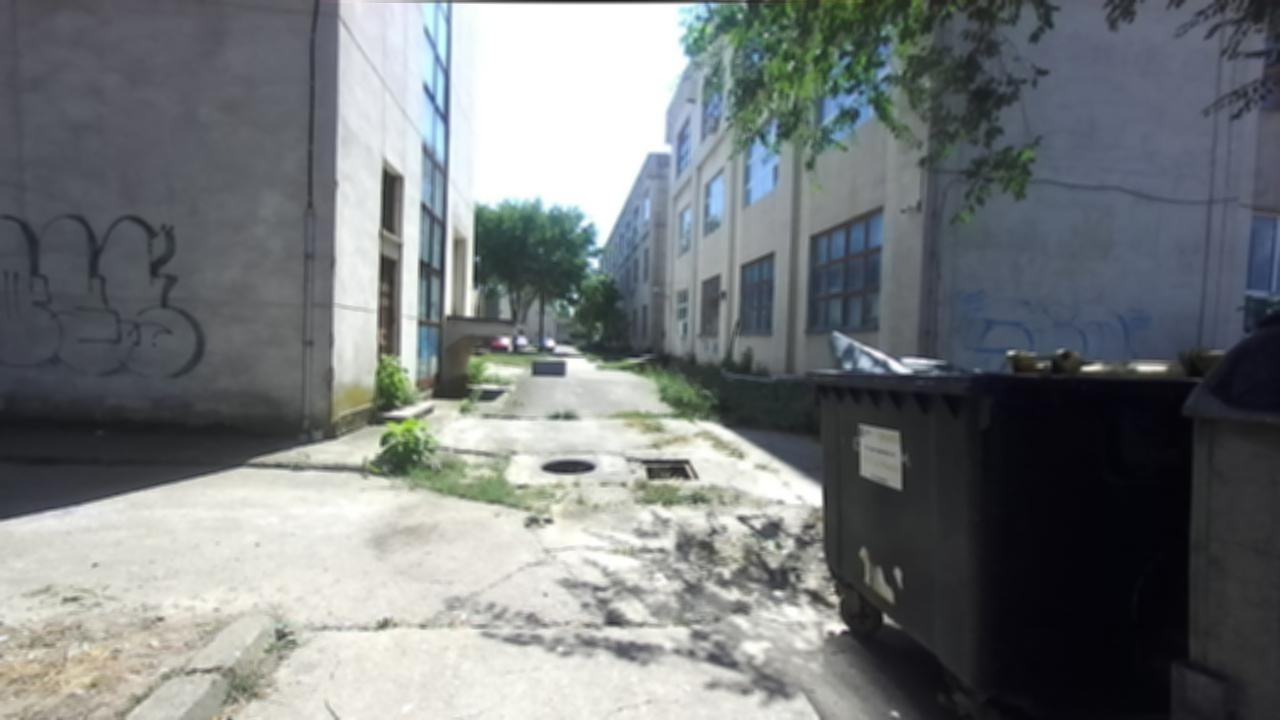drain: (535, 451, 600, 476), (639, 456, 703, 481)
